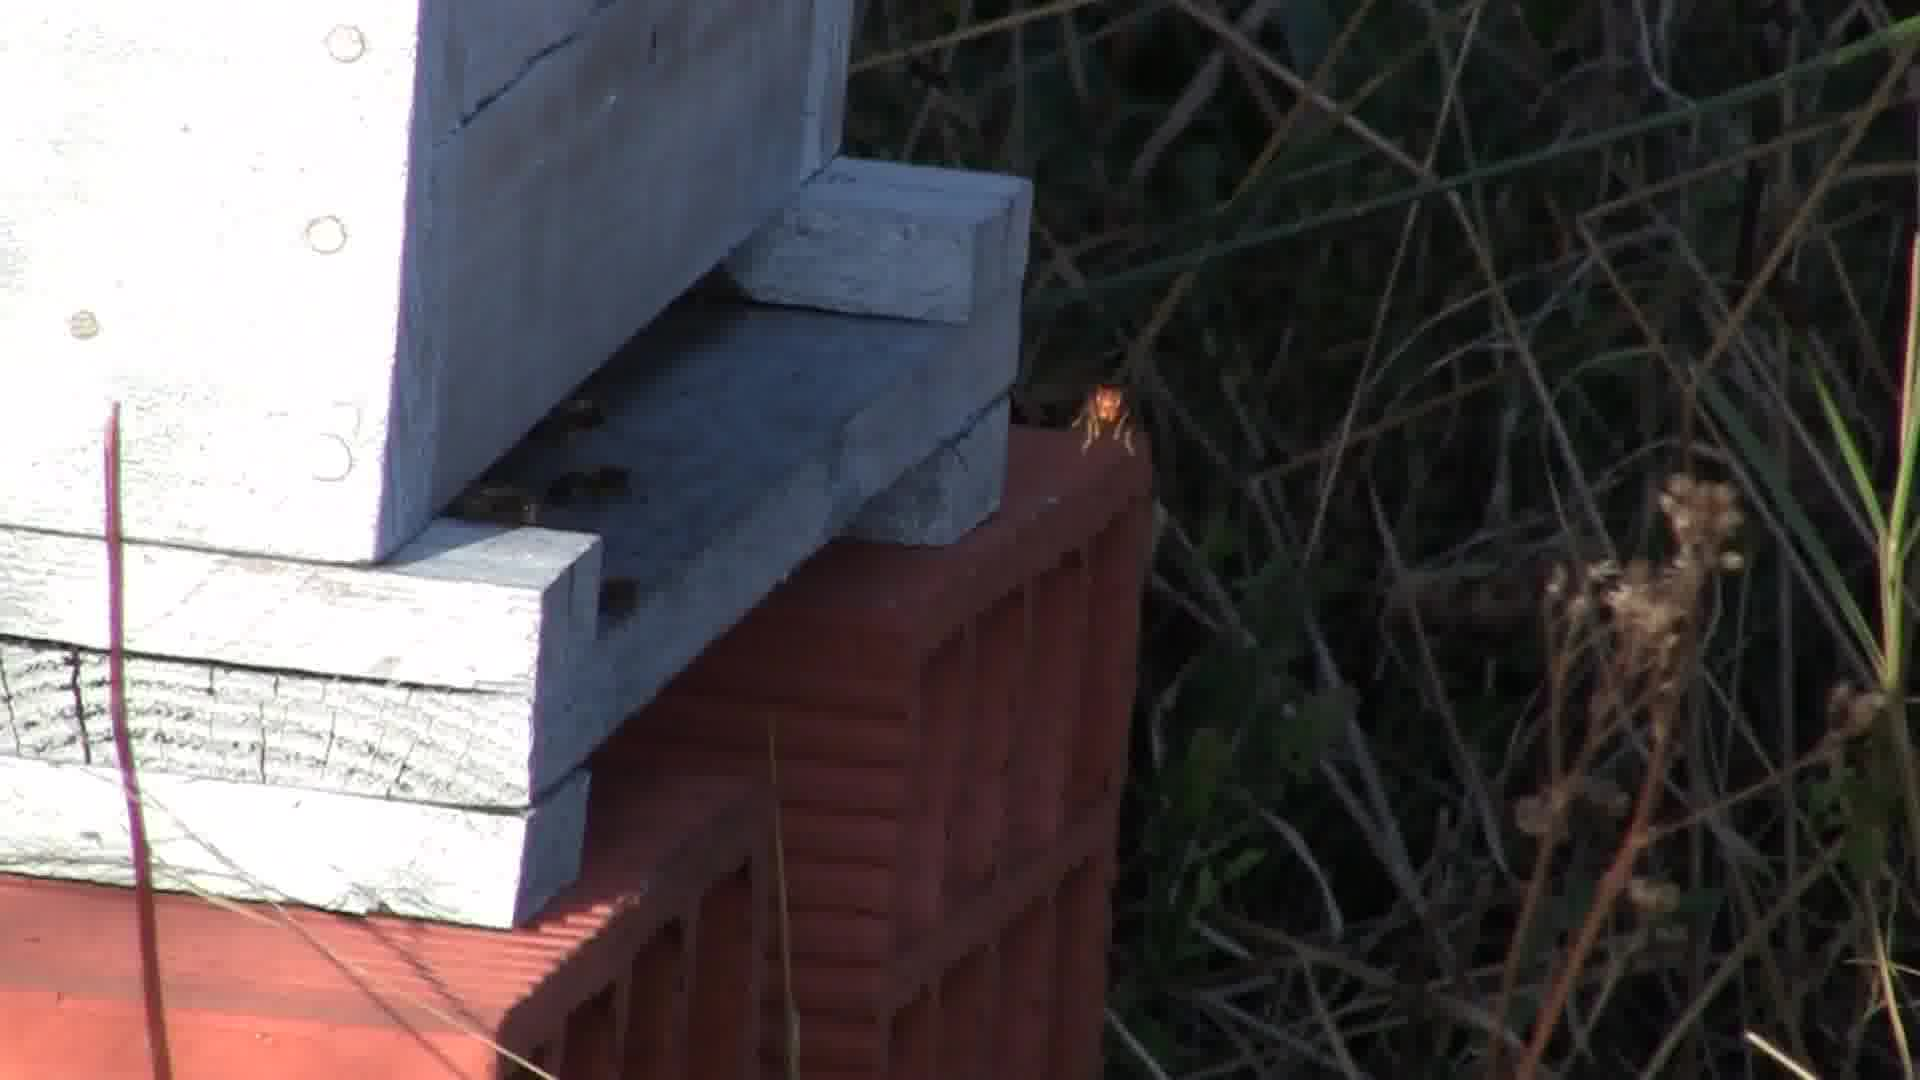bee: (549, 454, 649, 517)
hornet: (1052, 361, 1158, 458)
